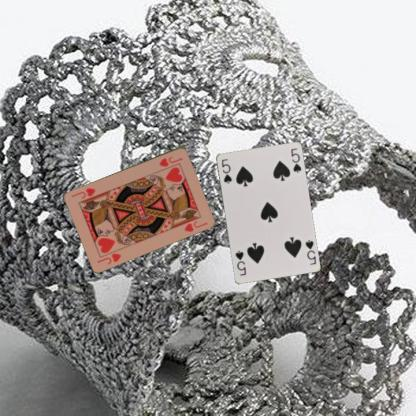5s: (218, 156, 233, 185), (302, 237, 317, 266)
Jh: (156, 153, 184, 168), (95, 250, 122, 265)
